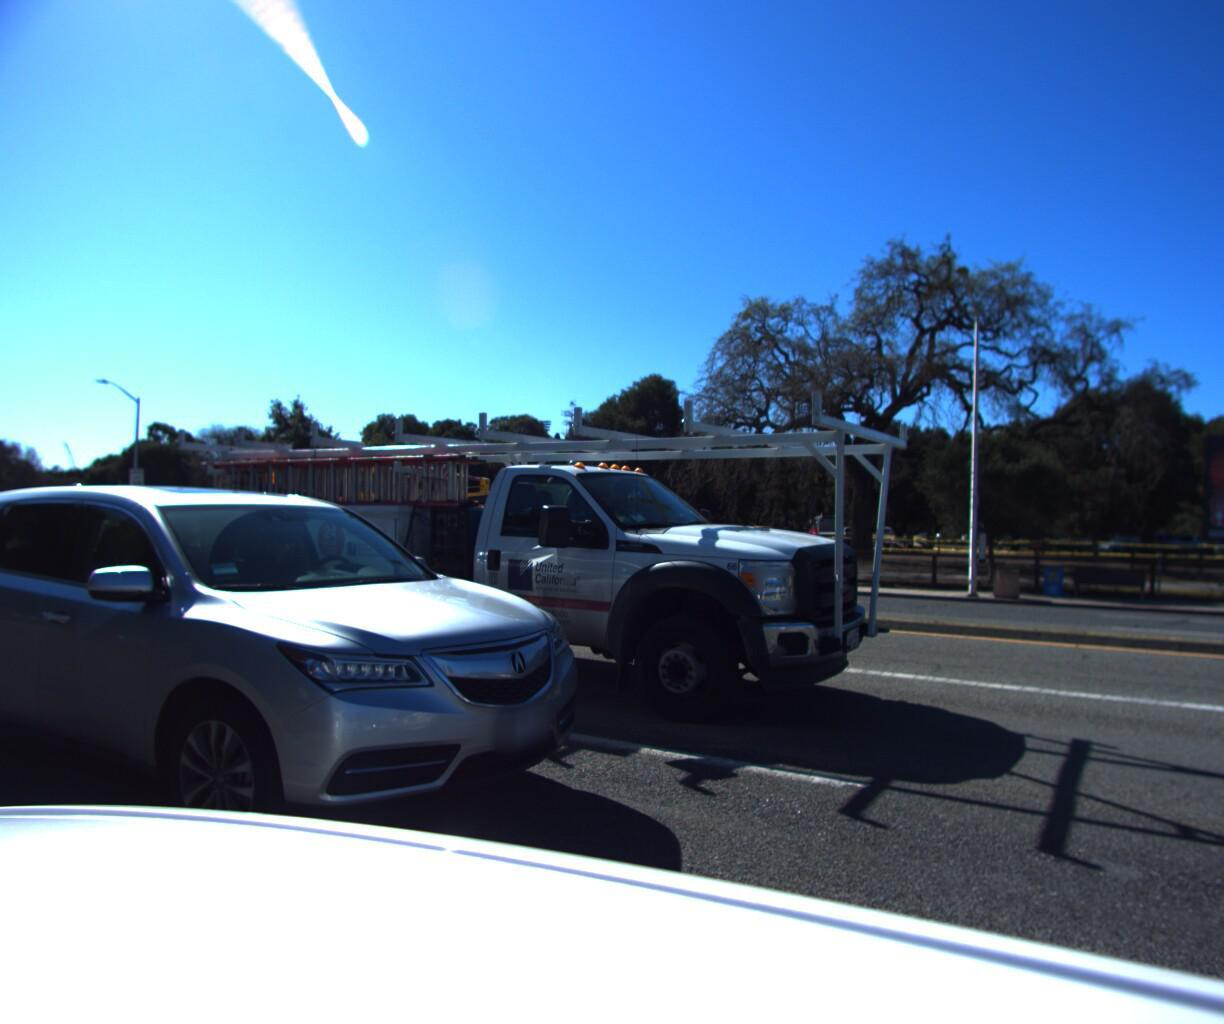car: (0, 456, 634, 935), (0, 514, 99, 614)
other_vehicle: (134, 344, 937, 771)
